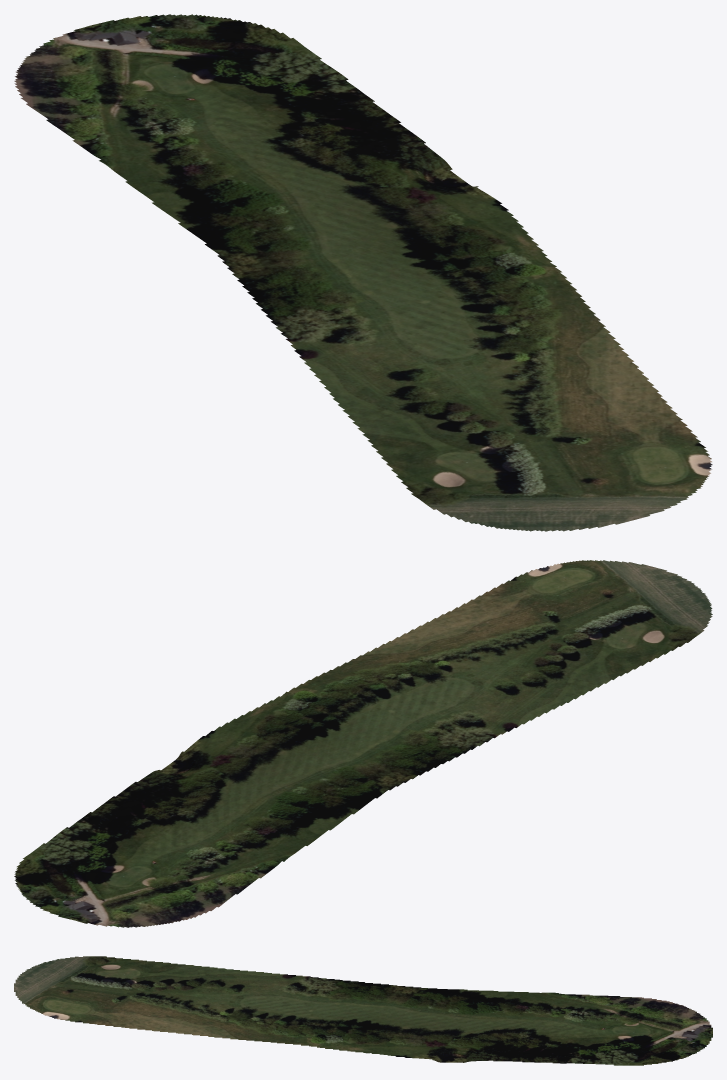
File: stibb_4.glb
3 renders of one model, top to bottom at view 1: azimuth 30°, elevation 25°; view 2: azimuth 150°, elevation 25°; view 3: azimuth 270°, elevation 25°, orthographic. The views are drawn at different scales.
Parts seen in each view (by area): view 1: ground; view 2: ground; view 3: ground.
Part boxes in pixels (left/top/right/bottom): ground: left=14, top=14, right=712, bottom=531; ground: left=14, top=560, right=712, bottom=927; ground: left=14, top=956, right=712, bottom=1065.
Bounding box in the file's own units: 149 × 9.86 × 436.
1 material, 1 textured.
